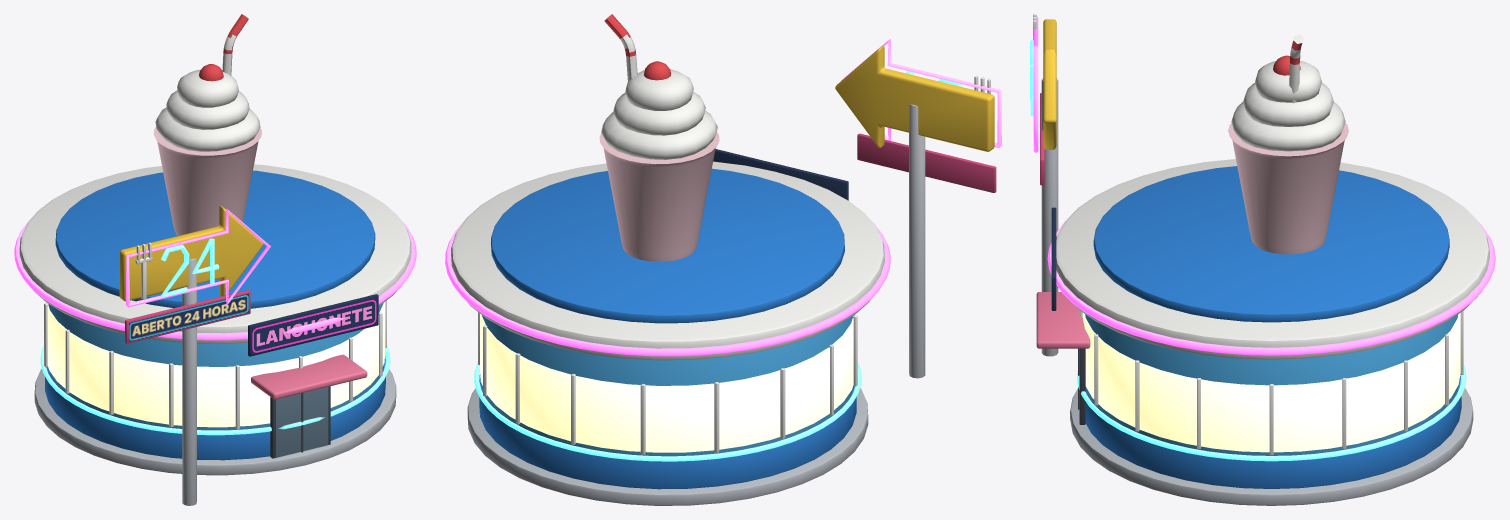
File: lanchonete_24h.glb
The picture shows the model from 3 angles, left to right: view 1: azimuth 30°, elevation 25°; view 2: azimuth 150°, elevation 25°; view 3: azimuth 270°, elevation 25°; orthographic projection. The views are drawn at different scales.
Parts seen in each view (by area): view 1: lanchonete_24h, numero_24; view 2: lanchonete_24h; view 3: lanchonete_24h.
Boxes of the visible parts, x1,y1,x2,y2 form: lanchonete_24h: (14, 14, 416, 505); numero_24: (161, 238, 219, 296); lanchonete_24h: (445, 14, 1001, 505); lanchonete_24h: (1033, 14, 1495, 505).
Size of the model in its own units: 14.13 by 13.41 by 13.86.
8 materials, 3 textured.
